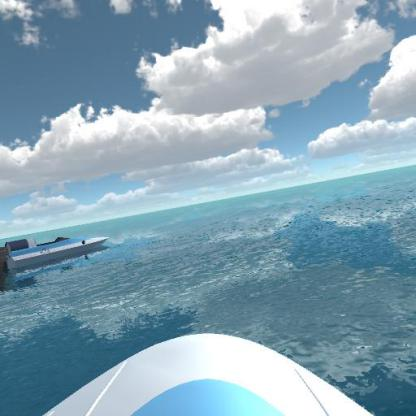usv1: (0, 228, 115, 275)
